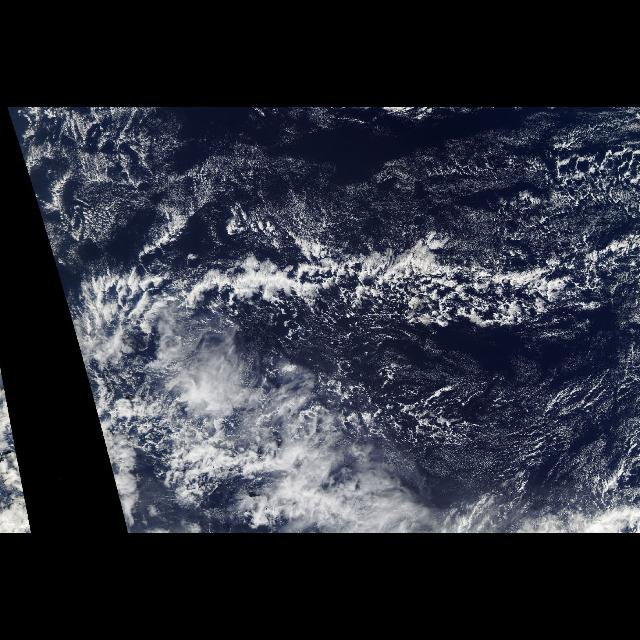Fish: (48, 216, 640, 358), (258, 362, 472, 466)
Sugar: (28, 110, 620, 250), (375, 364, 639, 501)
